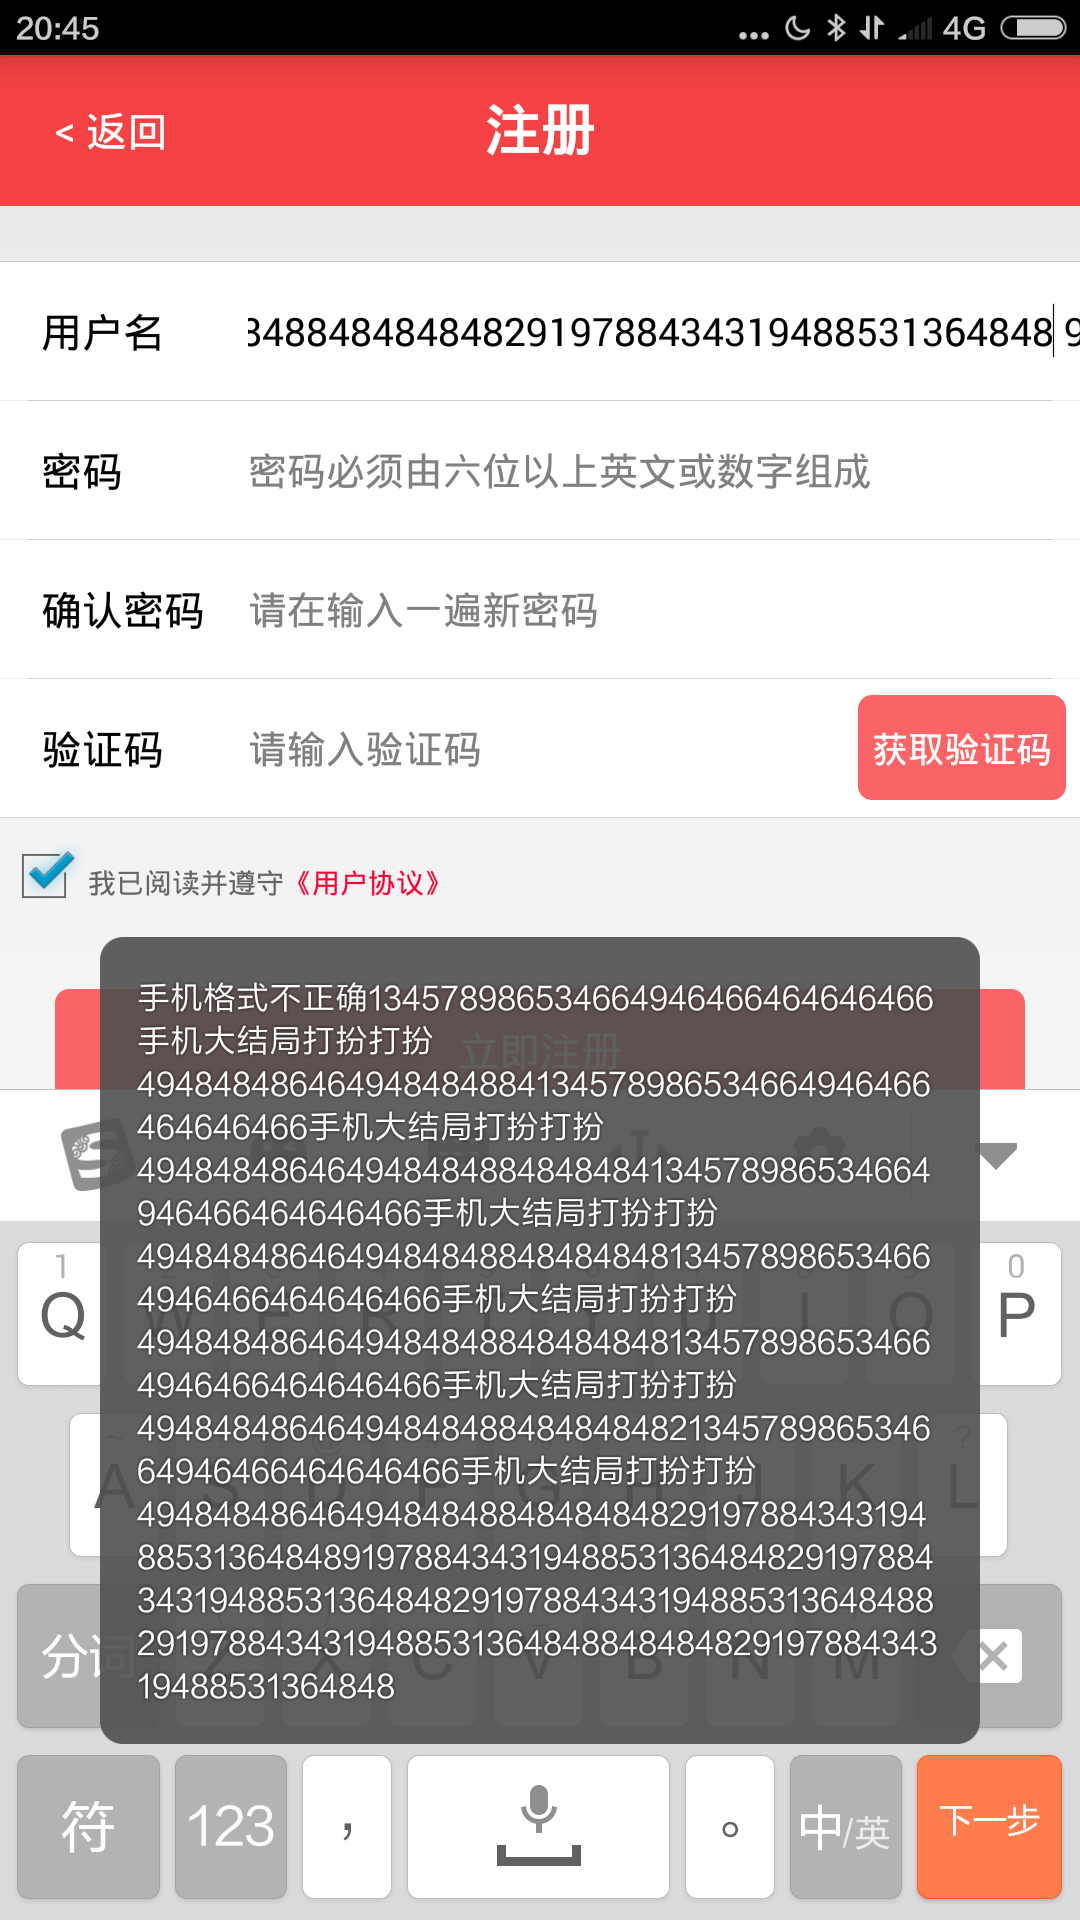alert: (92, 924, 994, 1763)
button: (851, 680, 1067, 806)
